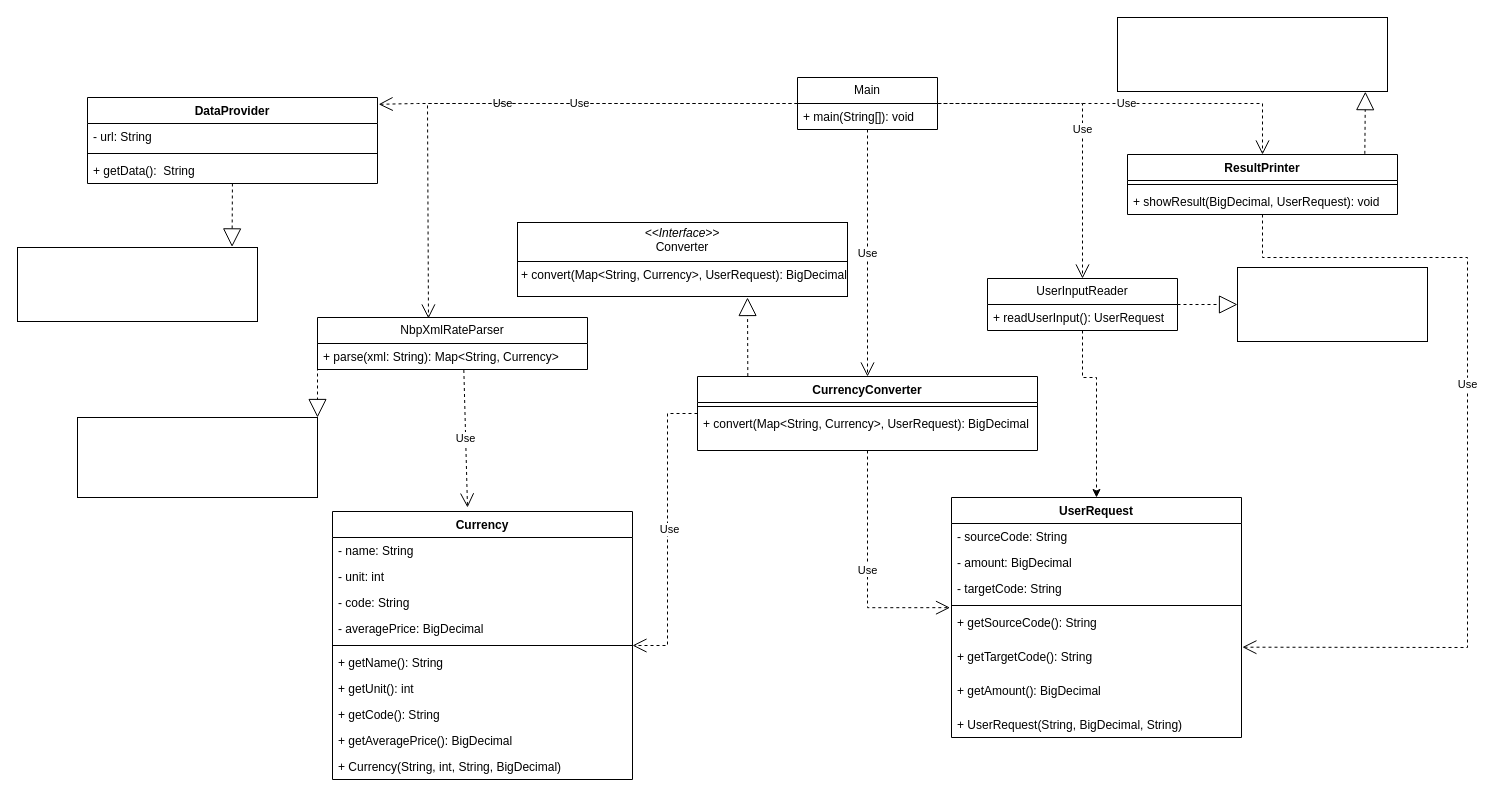
Image size: 1499x800. Some labels were removed from this diagram. Each missing label, with the centre of its shape:
"<<Interface>> InputReader + readUserInput(): UserRequest" belongs at [1332,304].
"<<Interface>> RateParser + parse(xml: String): Map<String, Currency>" belongs at [197,457].
"<<Interface>> RateProvider + getData(): String" belongs at [137,284].
"<<Interface>> ResultPresenter +showResult(BigDecimal, UserRequest): void" belongs at [1252,54].
